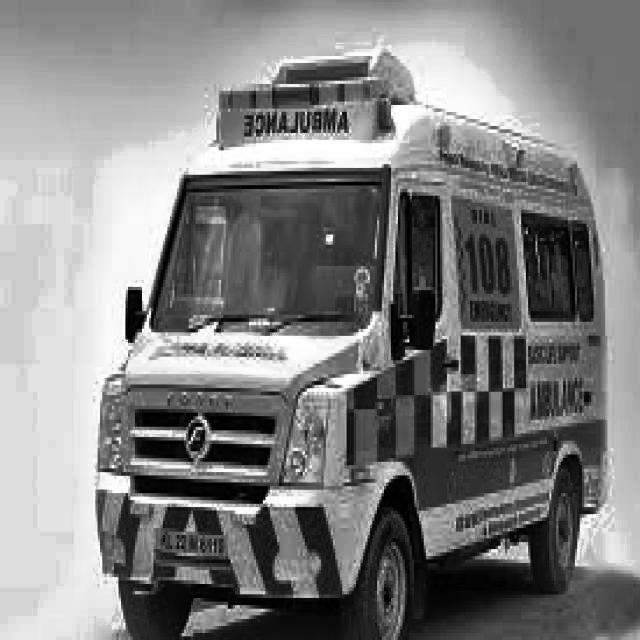LCV: (92, 80, 434, 598)
